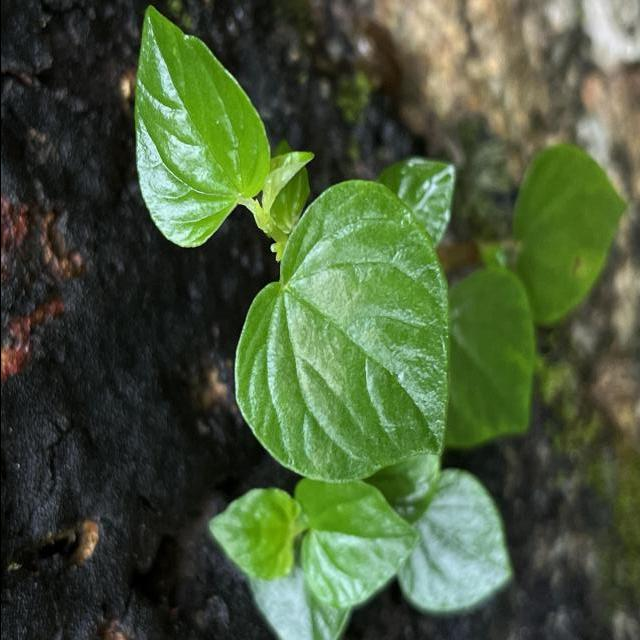Peperomia pellucida: (232, 176, 454, 486), (132, 2, 272, 248)
